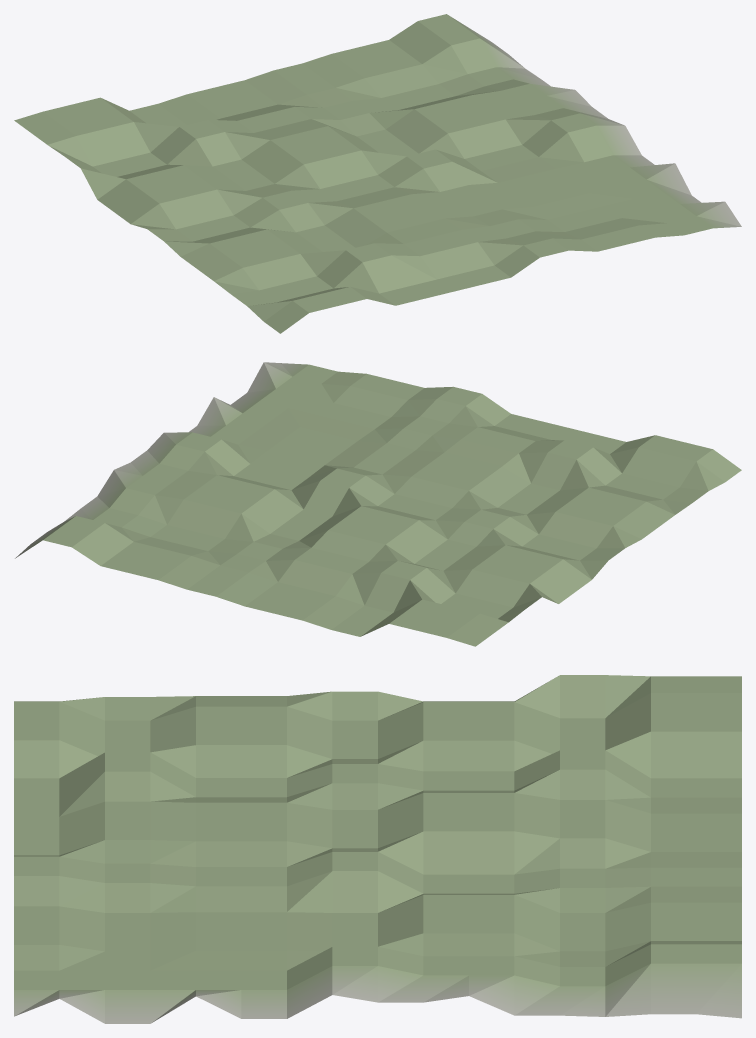
3 views of the same model, one above another, from view 1: azimuth 30°, elevation 25°; view 2: azimuth 150°, elevation 25°; view 3: azimuth 270°, elevation 25° (orthographic). The views are drawn at different scales.
Size of the model in its own units: 32 by 2.08 by 32.
